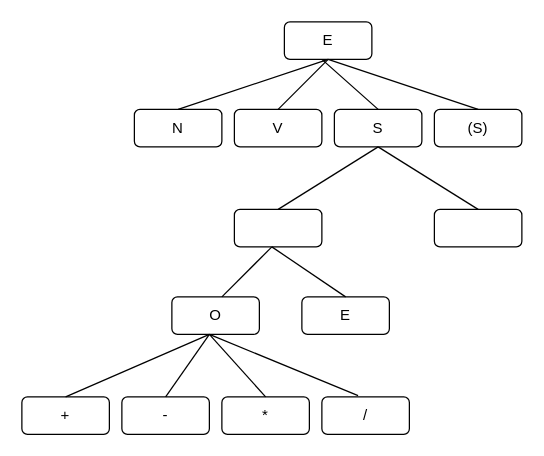
Some shapes in this 544 by 456 pixel diagram are drawn without their labels. Each missing label, with the centre of its shape:
"=VE" goes at (x=477, y=227).
"OEE" goes at (x=277, y=227).
